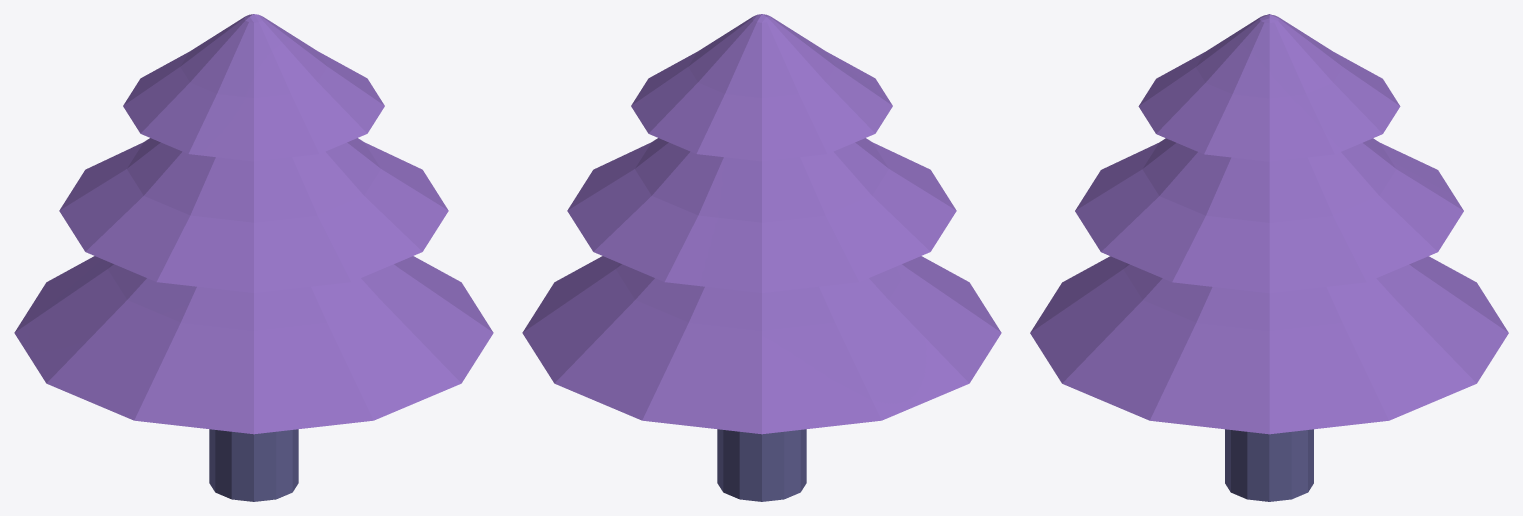
File: pinecone.fbx
3 renders of one model, left to right at view 1: azimuth 30°, elevation 25°; view 2: azimuth 150°, elevation 25°; view 3: azimuth 270°, elevation 25°, orthographic.
Visible parts, largest first — view 1: Cylinder; view 2: Cylinder; view 3: Cylinder.
Boxes of the visible parts, x1,y1,x2,y2 form: Cylinder: [14, 14, 493, 501]; Cylinder: [522, 14, 1001, 501]; Cylinder: [1030, 14, 1508, 501].
Size of the model in its own units: 409 by 442 by 409.
